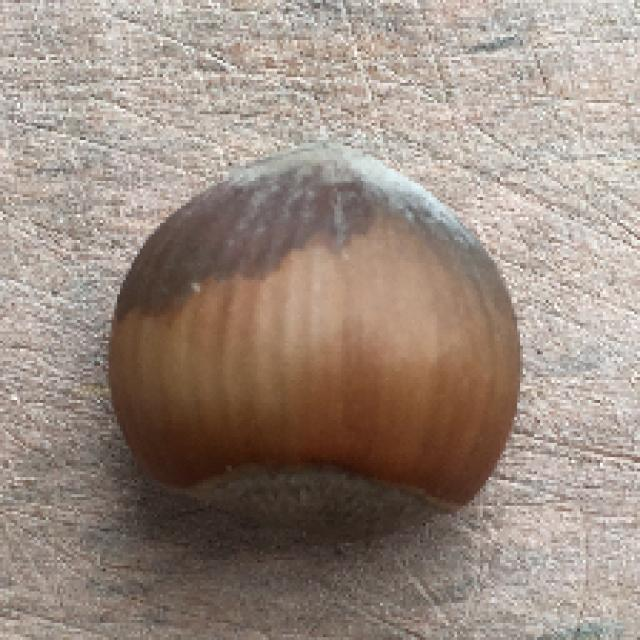damagedHazelnut: (102, 129, 528, 536)
